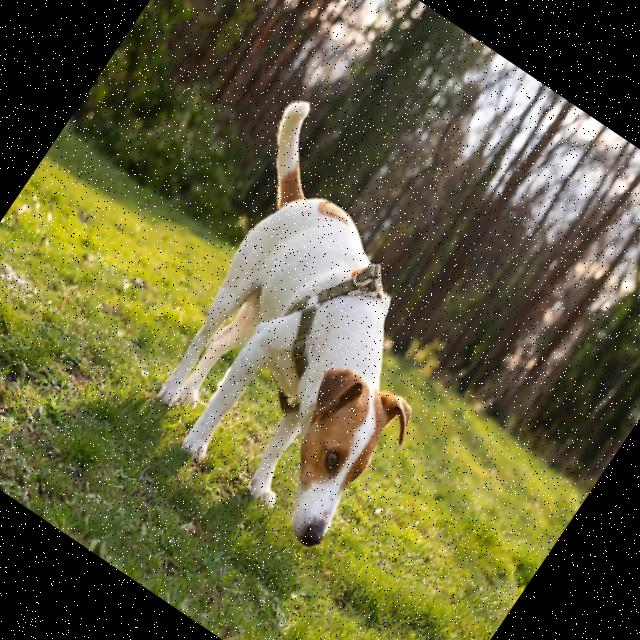Dog: (88, 95, 530, 560)
